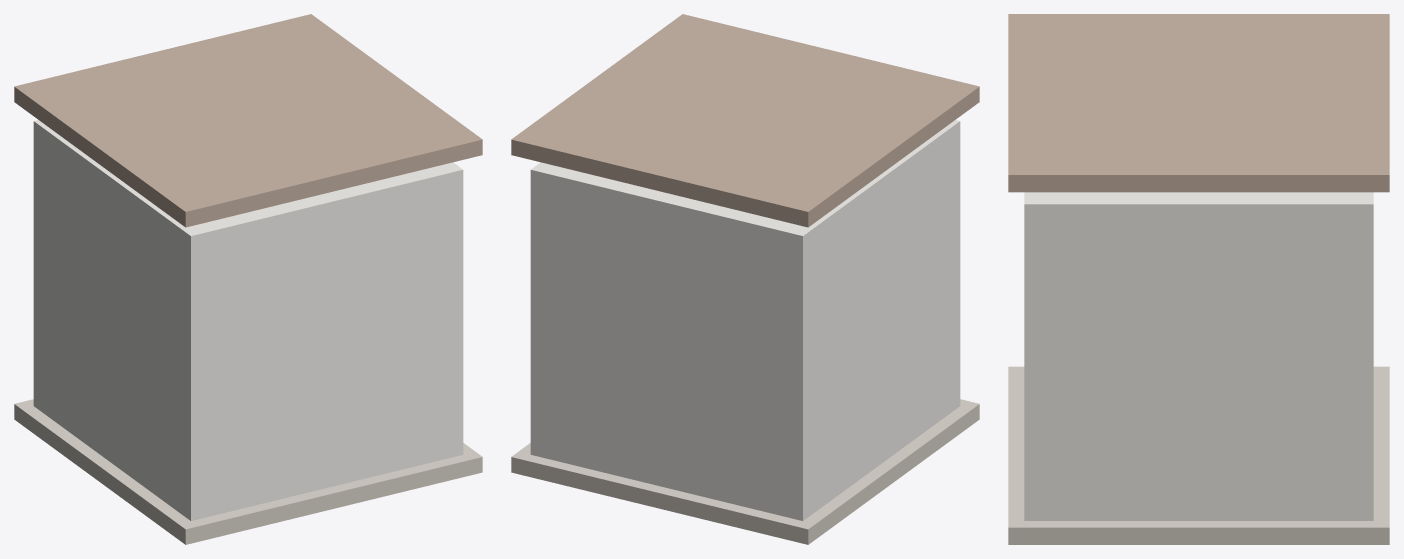
Rendered from security-booth.glb.
3 renders of one model, left to right at view 1: azimuth 30°, elevation 25°; view 2: azimuth 150°, elevation 25°; view 3: azimuth 270°, elevation 25°, orthographic. The views are drawn at different scales.
Visible parts, largest first — view 1: spatial-root; view 2: spatial-root; view 3: spatial-root.
Boxes of the visible parts, box(x1,y1,x2,y2) form: spatial-root: box(14, 14, 482, 544); spatial-root: box(511, 14, 979, 544); spatial-root: box(1008, 14, 1389, 544).
Size of the model in its own units: 2.4 by 2.57 by 2.4.
